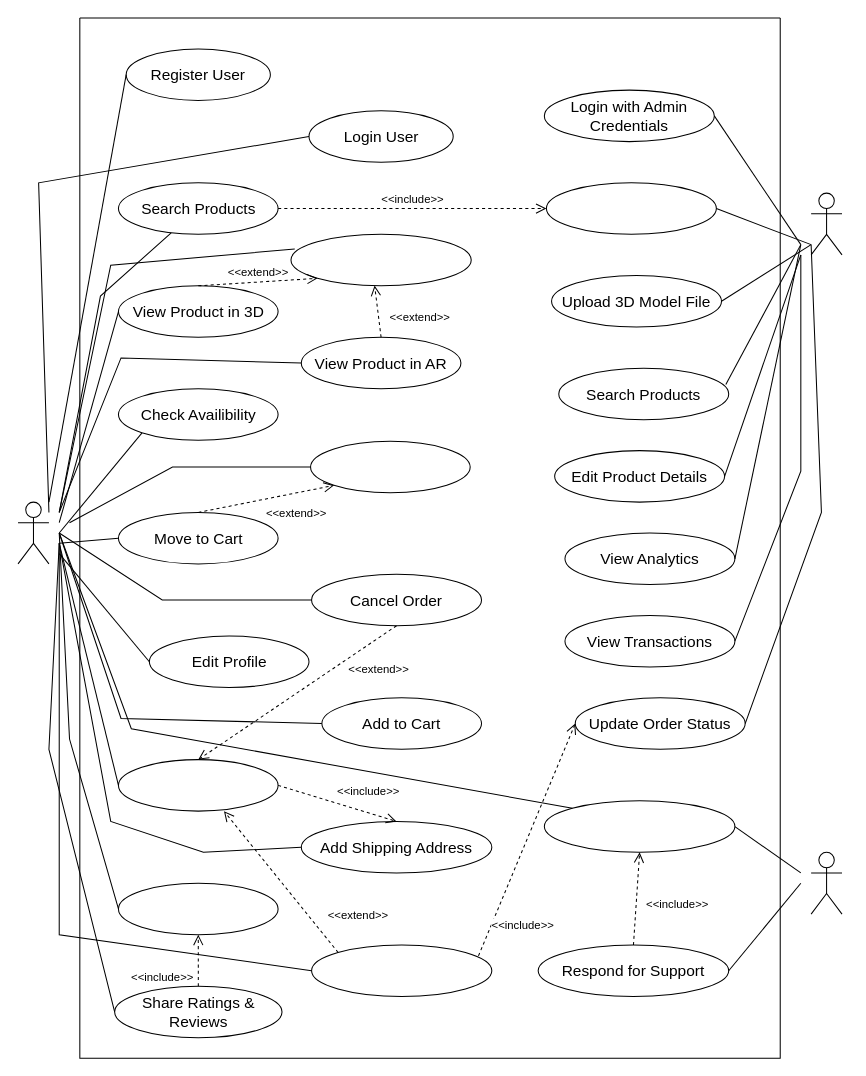
The diagram is 866 pixels wide and 1076 high, and some of its shapes have lost their labels. The box of each missing label's shape, as (x1, y1, x2, y2) in pixels:
Add Product Details: (545, 182, 716, 234)
Add to Wish List: (310, 440, 470, 493)
Admin: (810, 192, 842, 255)
Checkout: (117, 759, 278, 811)
Contact Support: (543, 800, 735, 852)
Make Payment: (117, 882, 278, 935)
Support: (810, 851, 842, 914)
Track Delivery Status: (311, 944, 492, 997)
User: (17, 501, 49, 564)
View Product Details: (290, 233, 471, 286)
